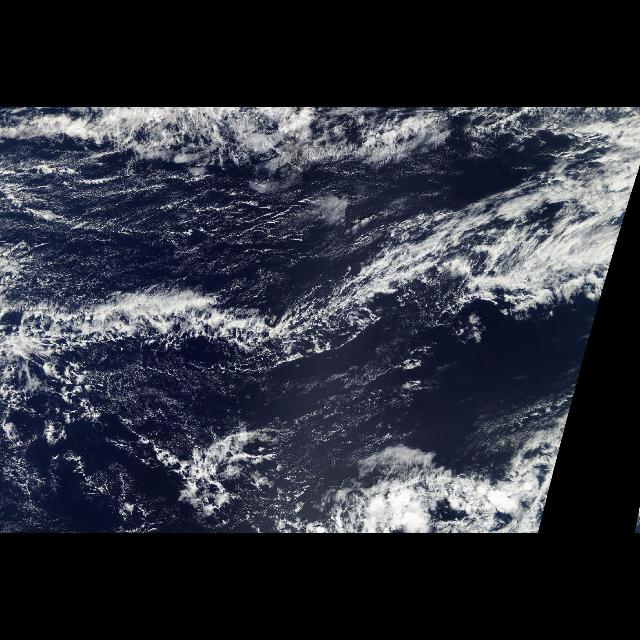Fish: (8, 275, 400, 377)
Sugar: (5, 144, 317, 278)
